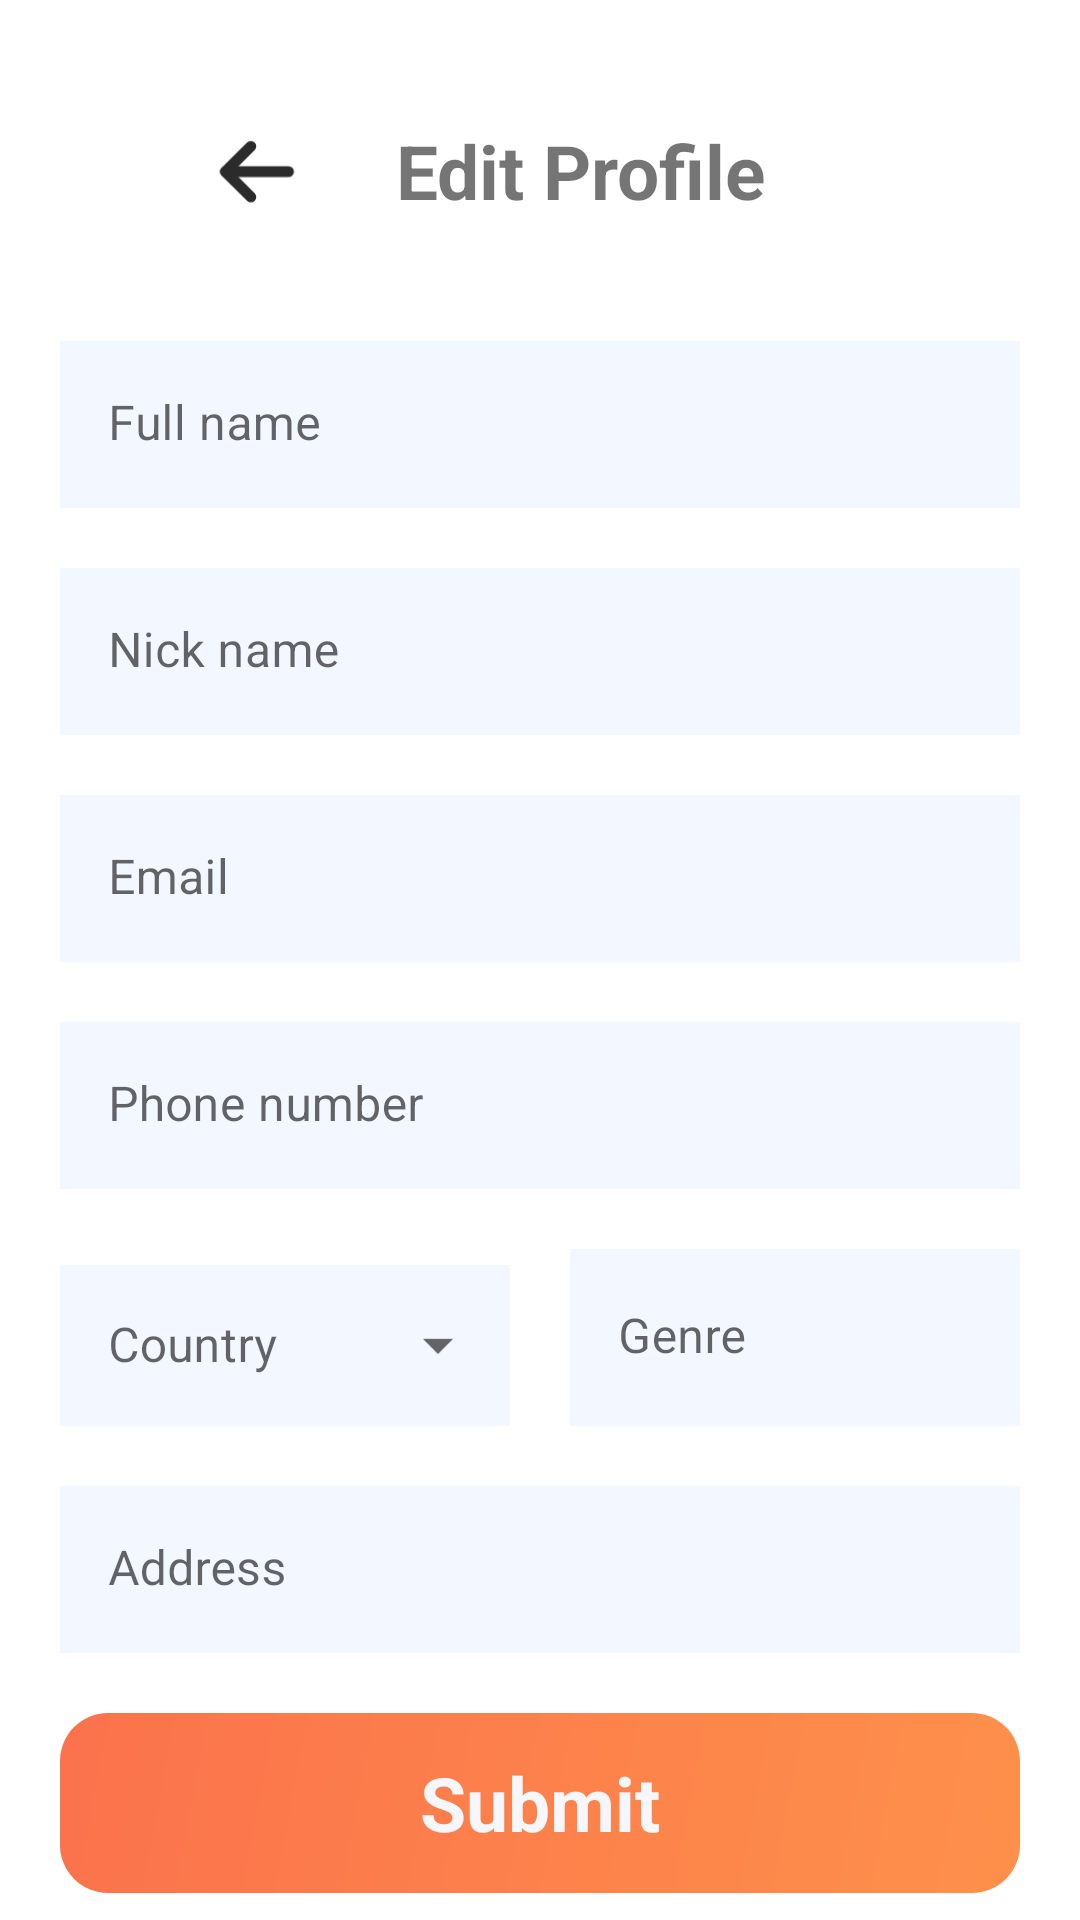

Point at icon controls on the screen. Image size 1080px×1920px, points as point (x, y).
return: point (257, 171)
